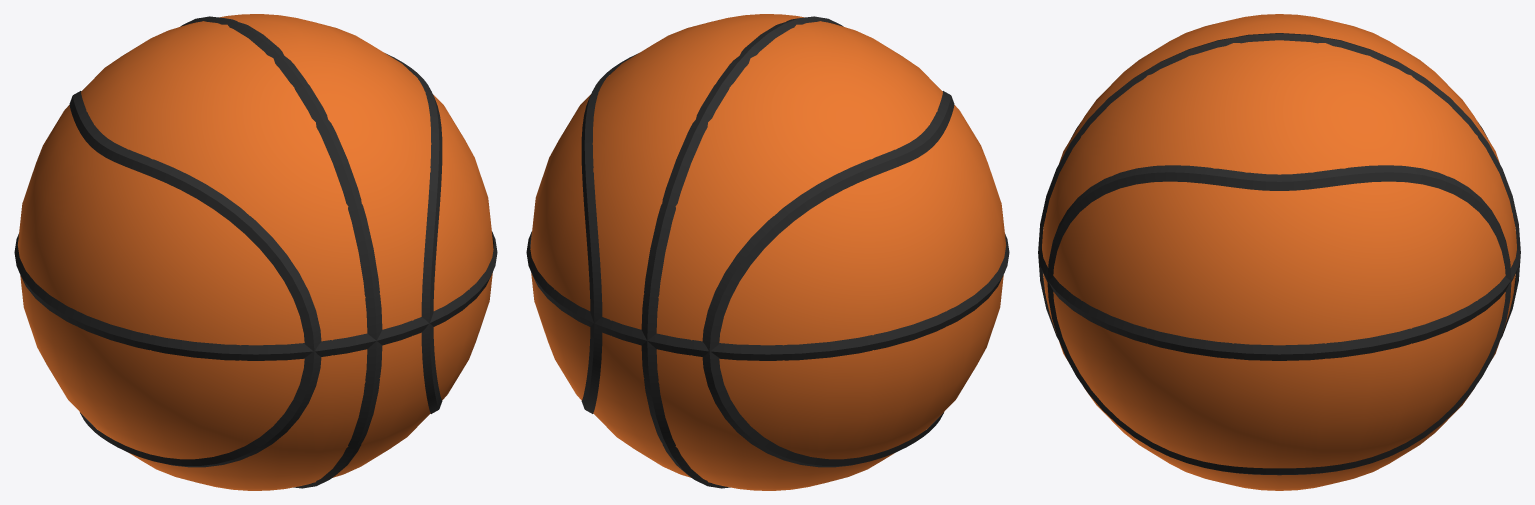
The model's file is ball.glb.
3 views of the same model, side by side, from view 1: azimuth 30°, elevation 25°; view 2: azimuth 150°, elevation 25°; view 3: azimuth 270°, elevation 25° (orthographic).
Visible parts, largest first — view 1: Bola; view 2: Bola; view 3: Bola.
Boxes of the visible parts, x1,y1,x2,y2 form: Bola: [14, 14, 497, 490]; Bola: [526, 14, 1009, 490]; Bola: [1038, 14, 1520, 490].
Bounding box in the file's own units: 0.445 × 0.445 × 0.445.
